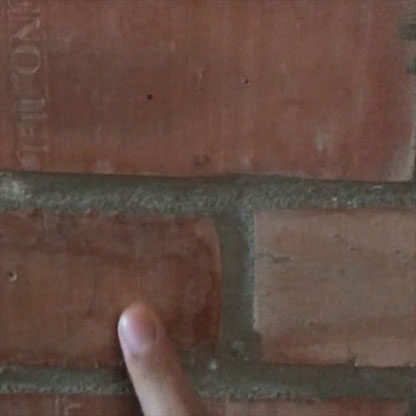fingertip: (106, 287, 177, 363)
